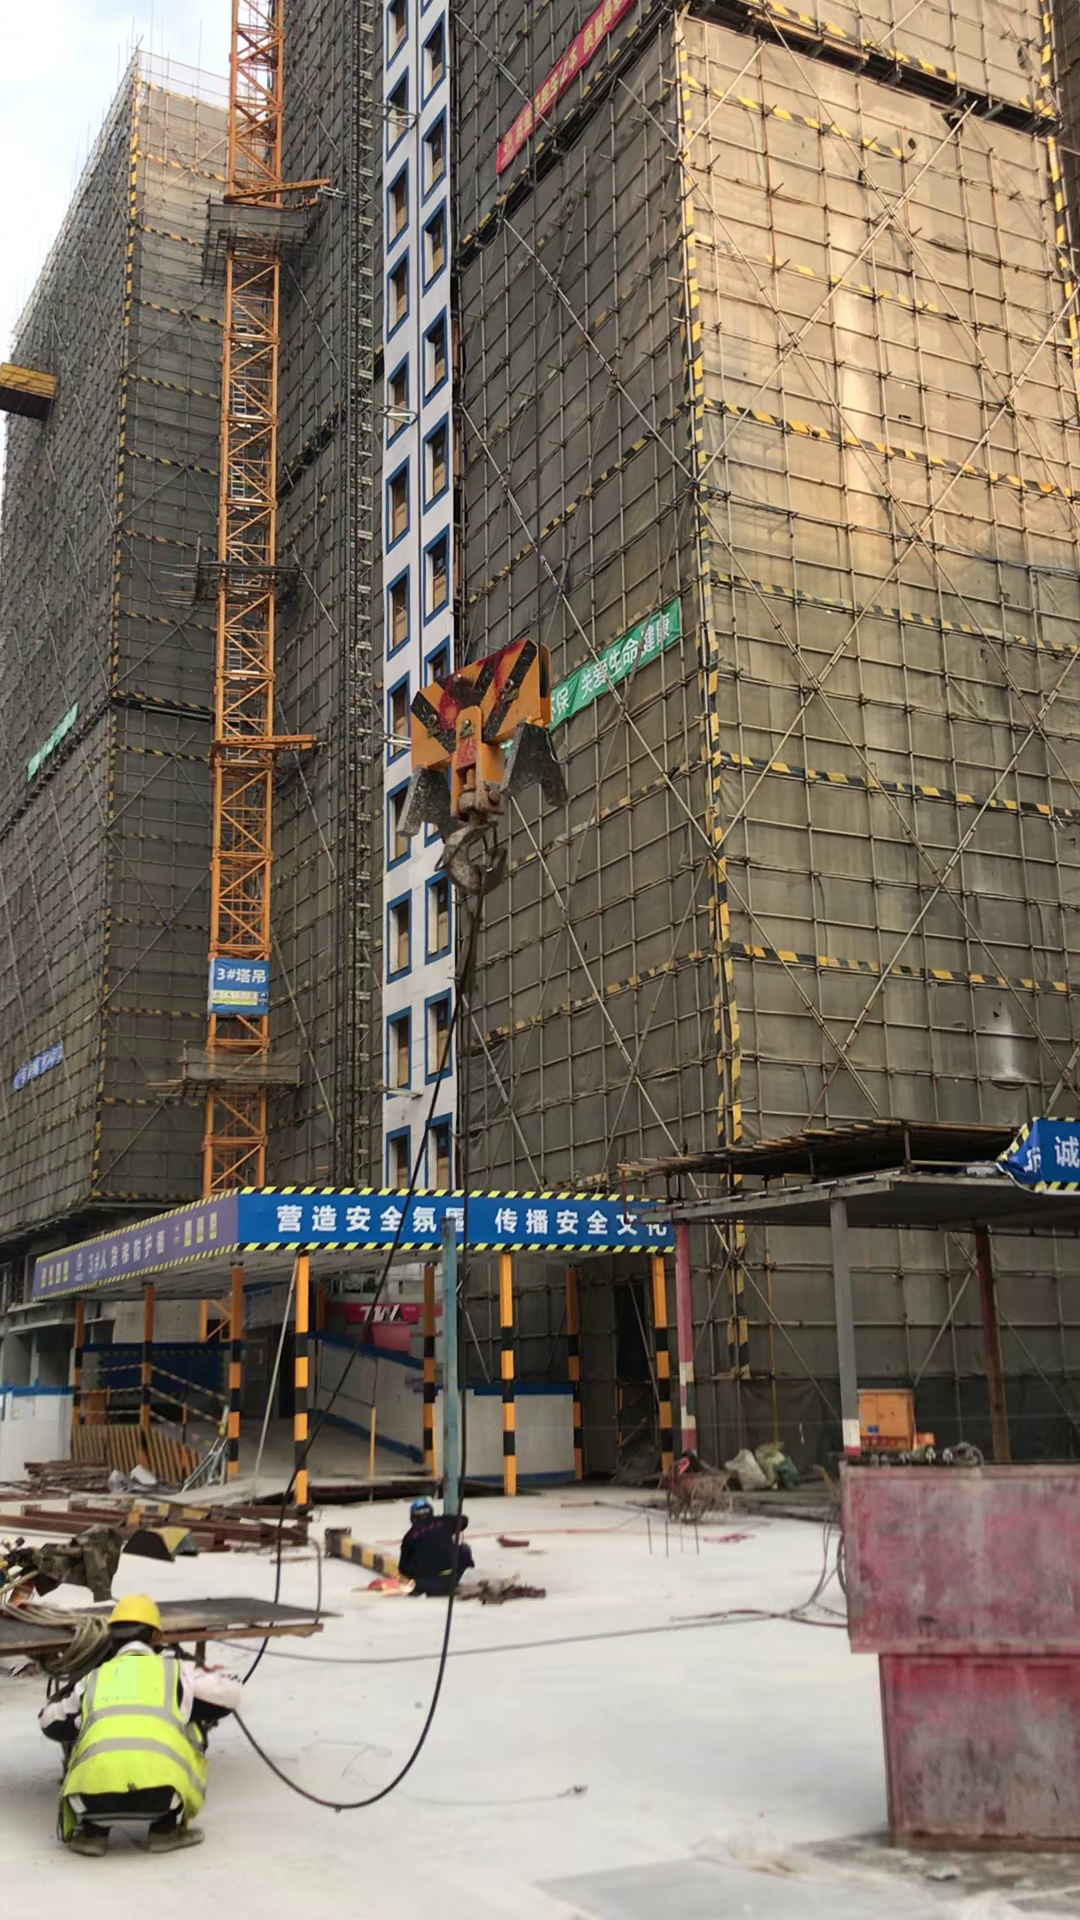ebox: (859, 1383, 919, 1458)
handcart: (641, 1464, 734, 1524)
helmet: (106, 1594, 172, 1636), (407, 1494, 441, 1520)
hook: (393, 653, 578, 874)
person: (24, 1591, 269, 1868), (385, 1497, 488, 1609)
slogan: (264, 1182, 680, 1251), (32, 1190, 251, 1311), (24, 700, 79, 780), (16, 1050, 71, 1092)
vest: (65, 1668, 209, 1807)
